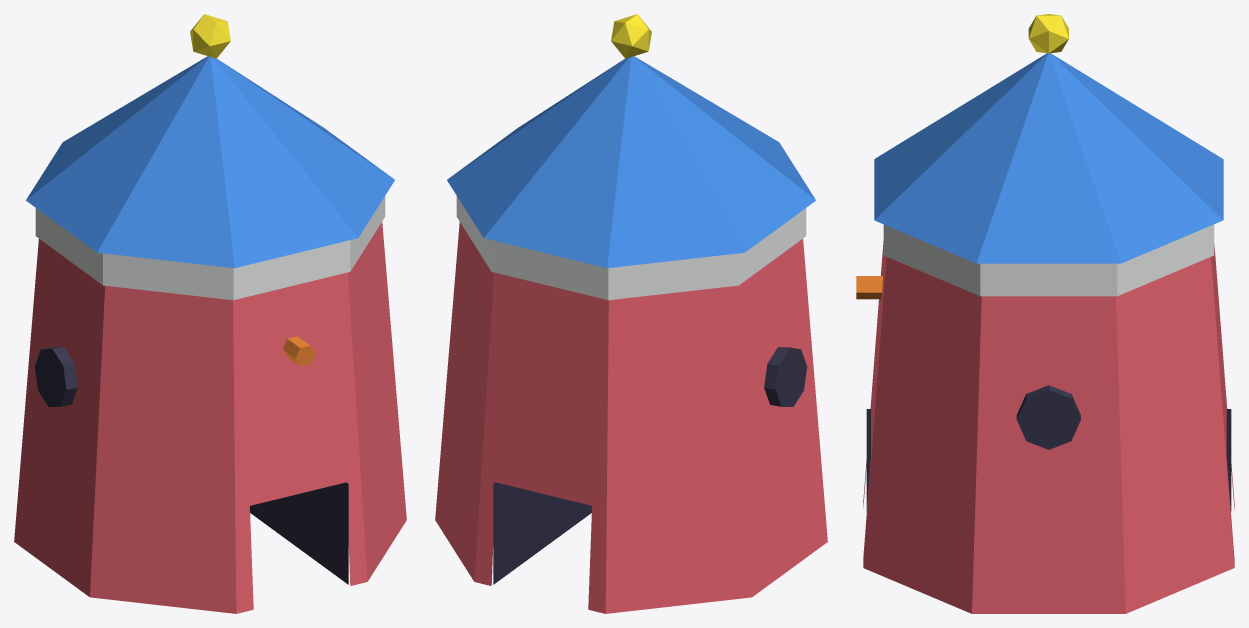
Rendered from tower.glb.
3 views of the same model, side by side, from view 1: azimuth 30°, elevation 25°; view 2: azimuth 150°, elevation 25°; view 3: azimuth 270°, elevation 25° (orthographic).
Parts seen in each view (by area): view 1: Tower, Roof, Band, Liner, WinL, Finial, Axle; view 2: Tower, Roof, Band, Liner, WinL, Finial; view 3: Tower, Roof, Band, WinR, Finial, Liner, Axle.
Boxes of the visible parts, <box> form: Tower: <box>14,222,406,613</box>; Roof: <box>26,56,394,268</box>; Band: <box>35,196,385,300</box>; Liner: <box>250,482,348,584</box>; WinL: <box>34,347,77,406</box>; Finial: <box>190,14,230,58</box>; Axle: <box>282,336,315,366</box>; Tower: <box>435,222,827,613</box>; Roof: <box>447,56,815,268</box>; Band: <box>456,196,806,300</box>; Liner: <box>493,482,591,584</box>; WinL: <box>764,347,807,406</box>; Finial: <box>611,14,651,58</box>; Tower: <box>863,241,1234,613</box>; Roof: <box>874,53,1223,263</box>; Band: <box>883,224,1214,296</box>; WinR: <box>1016,385,1080,449</box>; Finial: <box>1028,14,1068,53</box>; Liner: <box>866,409,1231,511</box>; Axle: <box>856,276,882,299</box>.
Size of the model in its own units: 2.25 by 3.4 by 2.24.
